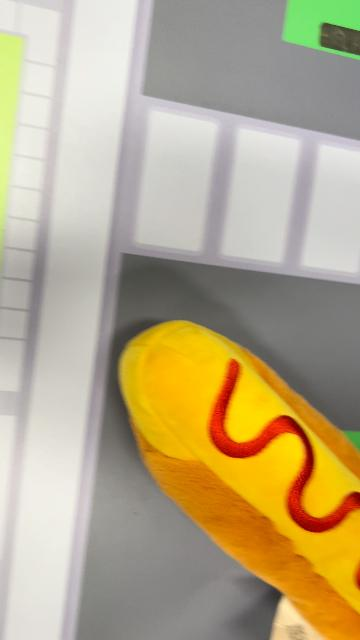hotdog: (118, 318, 358, 638)
